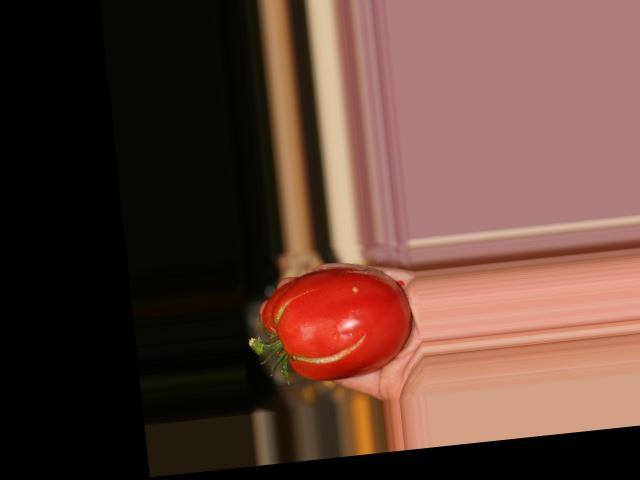tomato: (257, 260, 416, 385)
